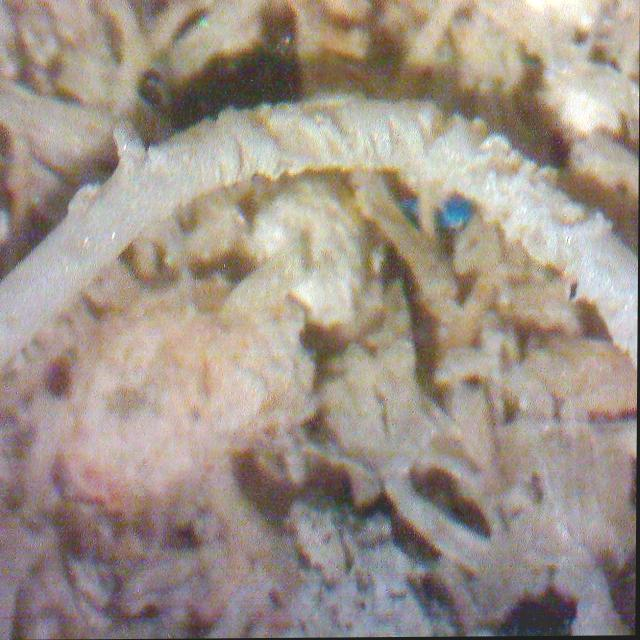microplastic: (0, 96, 638, 377)
